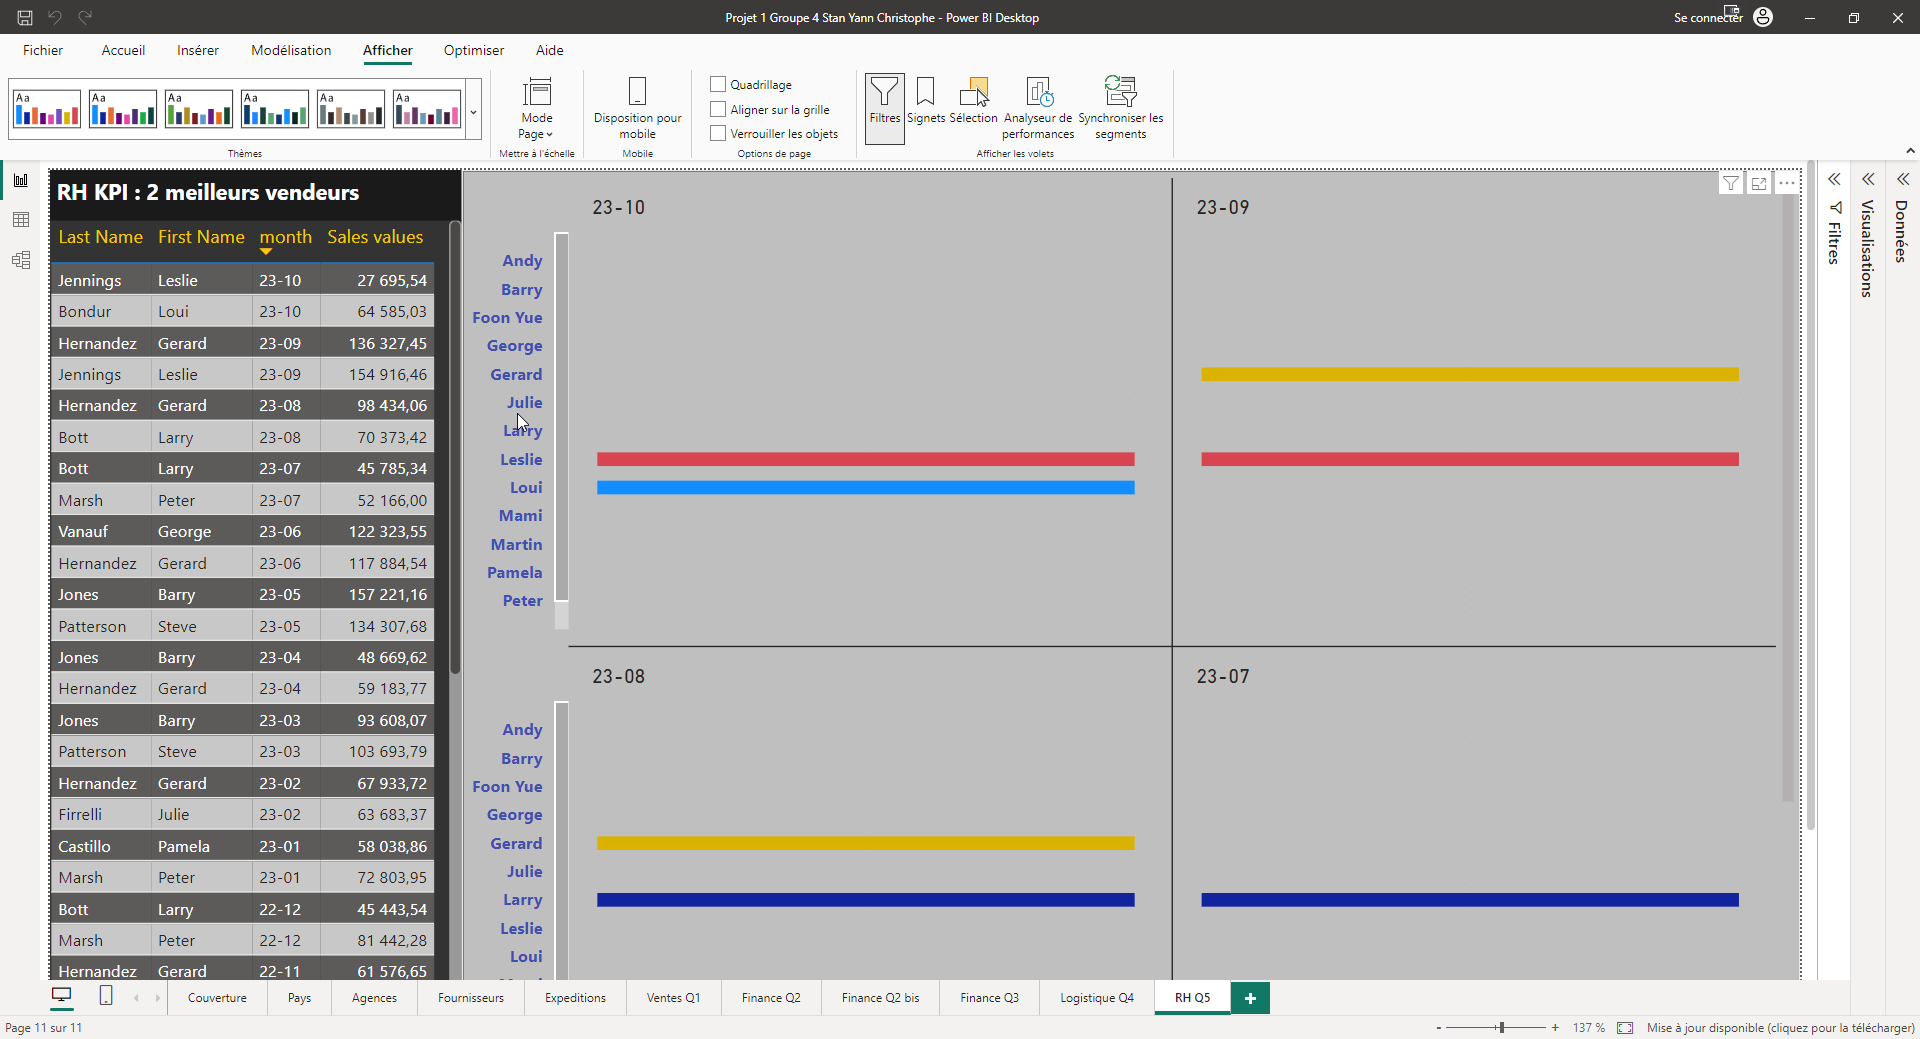

Layout of this report page (visuals, bound fields, positions):
{"tool":"powerbi","page":{"name":"RH Q5","canvas":[1280,720],"ordinal":10},"visuals":[{"type":"tableEx","fields":{"Values":["toys_and_models each_month_the_two_salespeople_with_the_highest_sales.salesperson_last_name","toys_and_models each_month_the_two_salespeople_with_the_highest_sales.salesperson_first_name","toys_and_models each_month_the_two_salespeople_with_the_highest_sales.month","Sum(toys_and_models each_month_the_two_salespeople_with_the_highest_sales.monthly_sales)"]},"box":[0,36.7,301.1,683.3],"z":0},{"type":"hundredPercentStackedBarChart","fields":{"Category":["toys_and_models each_month_the_two_salespeople_with_the_highest_sales.salesperson_first_name"],"Series":["toys_and_models each_month_the_two_salespeople_with_the_highest_sales.salesperson_last_name"],"Rows":["toys_and_models each_month_the_two_salespeople_with_the_highest_sales.month"],"Y":["Sum(toys_and_models each_month_the_two_salespeople_with_the_highest_sales.monthly_sales)"]},"box":[301.1,0,978.9,720],"z":1000},{"type":"textbox","box":[0,0,301.1,36.7],"z":2000}]}

Visuals, with their boxes on the page's 1280x720 design canvas (x1, y1, x2, y2). These are canvas units, not pixel positions in the 1920x1039 screenshot, which may show the page scaled, cropped or inside an application window:
tableEx - toys_and_models each_month_the_two_salespeople_with_the_highest_sales.salesperson_last_name x toys_and_models each_month_the_two_salespeople_with_the_highest_sales.salesperson_first_name: (x1=0, y1=37, x2=301, y2=720)
hundredPercentStackedBarChart - toys_and_models each_month_the_two_salespeople_with_the_highest_sales.salesperson_first_name x toys_and_models each_month_the_two_salespeople_with_the_highest_sales.salesperson_last_name: (x1=301, y1=0, x2=1280, y2=720)
textbox: (x1=0, y1=0, x2=301, y2=37)
